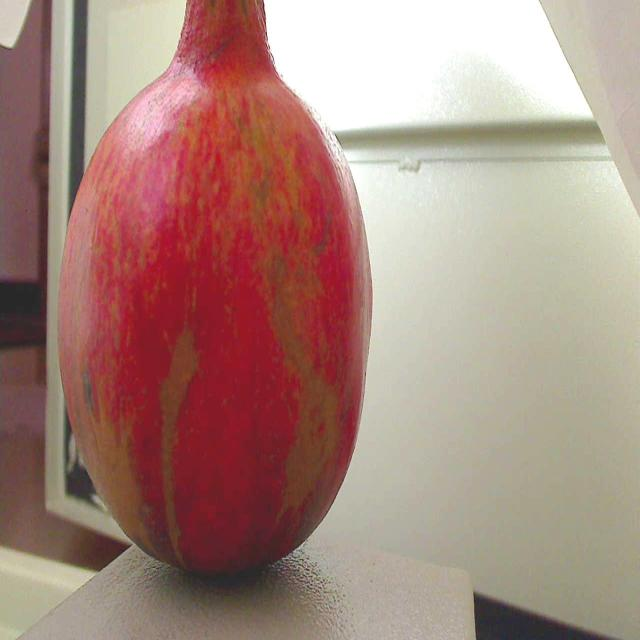pomegranate: (50, 0, 388, 584)
